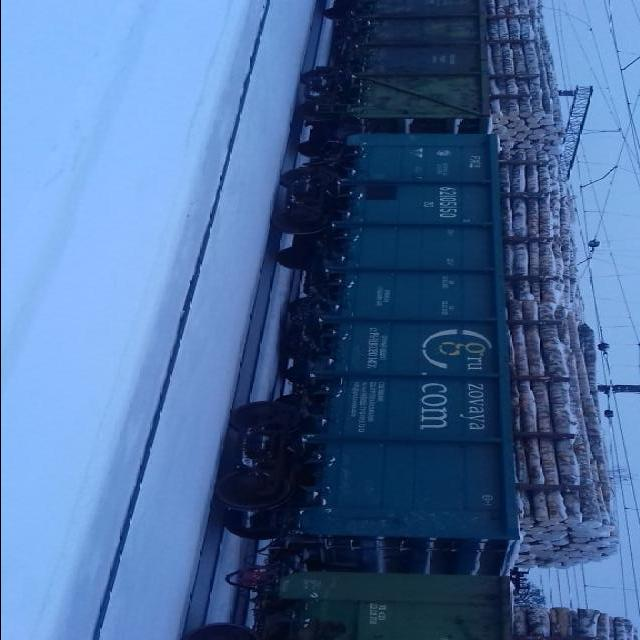wagon: (433, 184, 462, 218)
